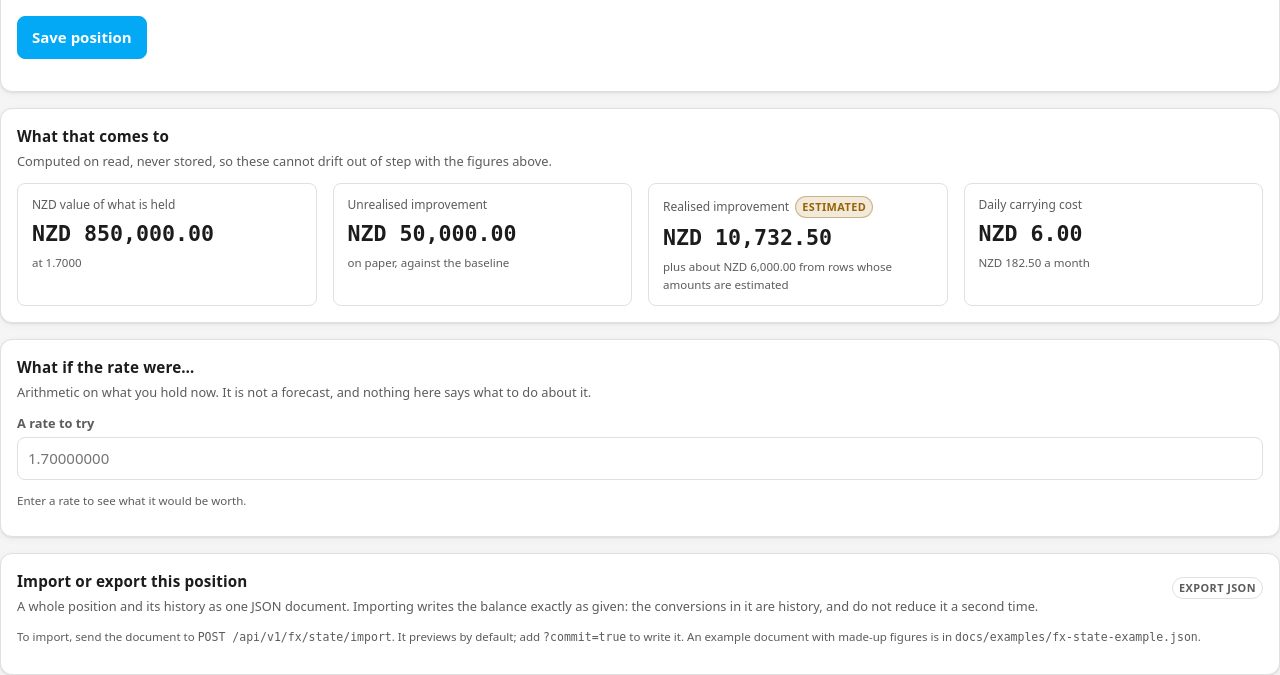
Scenario: the rate what-if › says so rather than guessing when there is no baseline
(page scrolled)
Step 1. Type "1.7500" into the field labelled "A rate to try" → (640,458), box [17,437,1263,480]
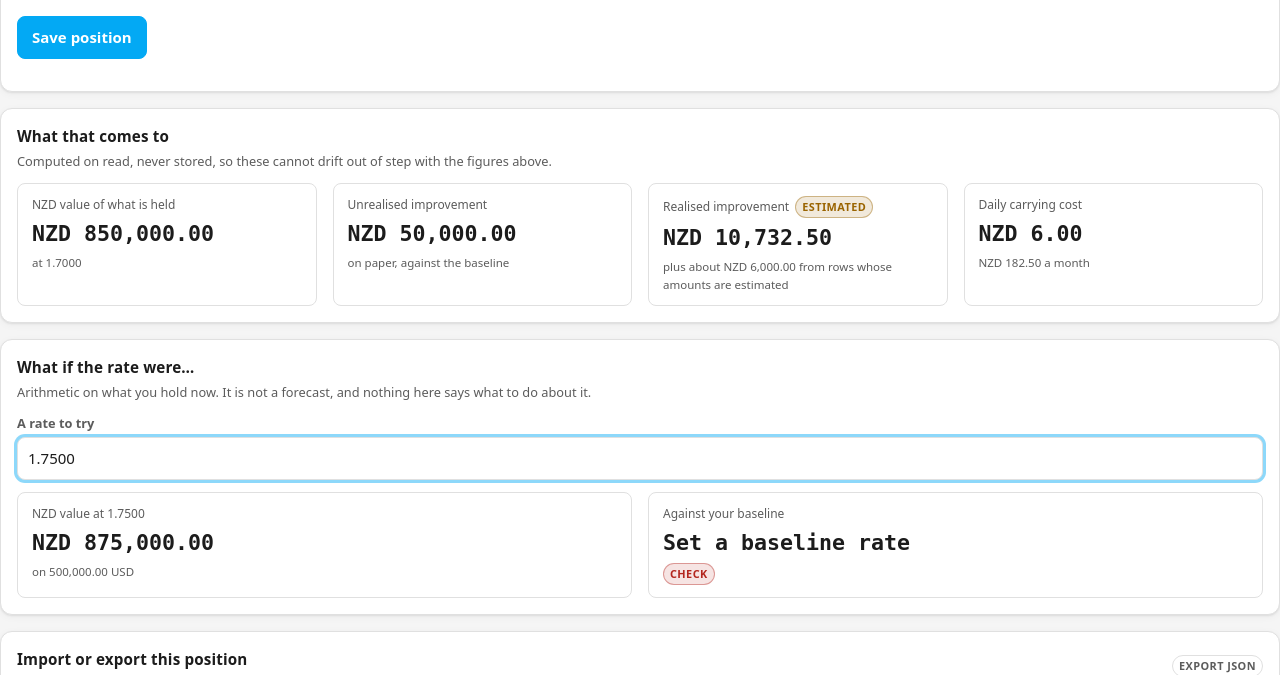
expect the text "NZD 875,000.00" is shown: met, box [32,530,214,555]
expect the text "Set a baseline rate" is shown: met, box [663,530,910,555]
